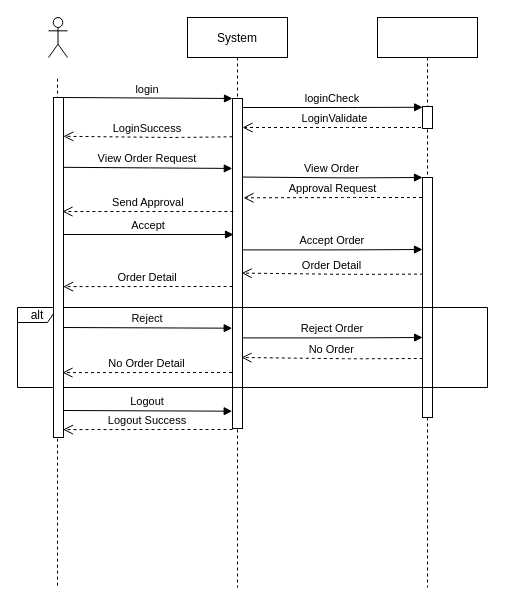
The diagram is 505 pixels wide and 605 high, and some of its shapes have lost their labels. The shapes that lost their labels are listed below. From the top down, each one's box as (x1, y1, x2, y2) in pixels, then its label:
(48, 16, 68, 58): Employee
(376, 16, 478, 588): Database
